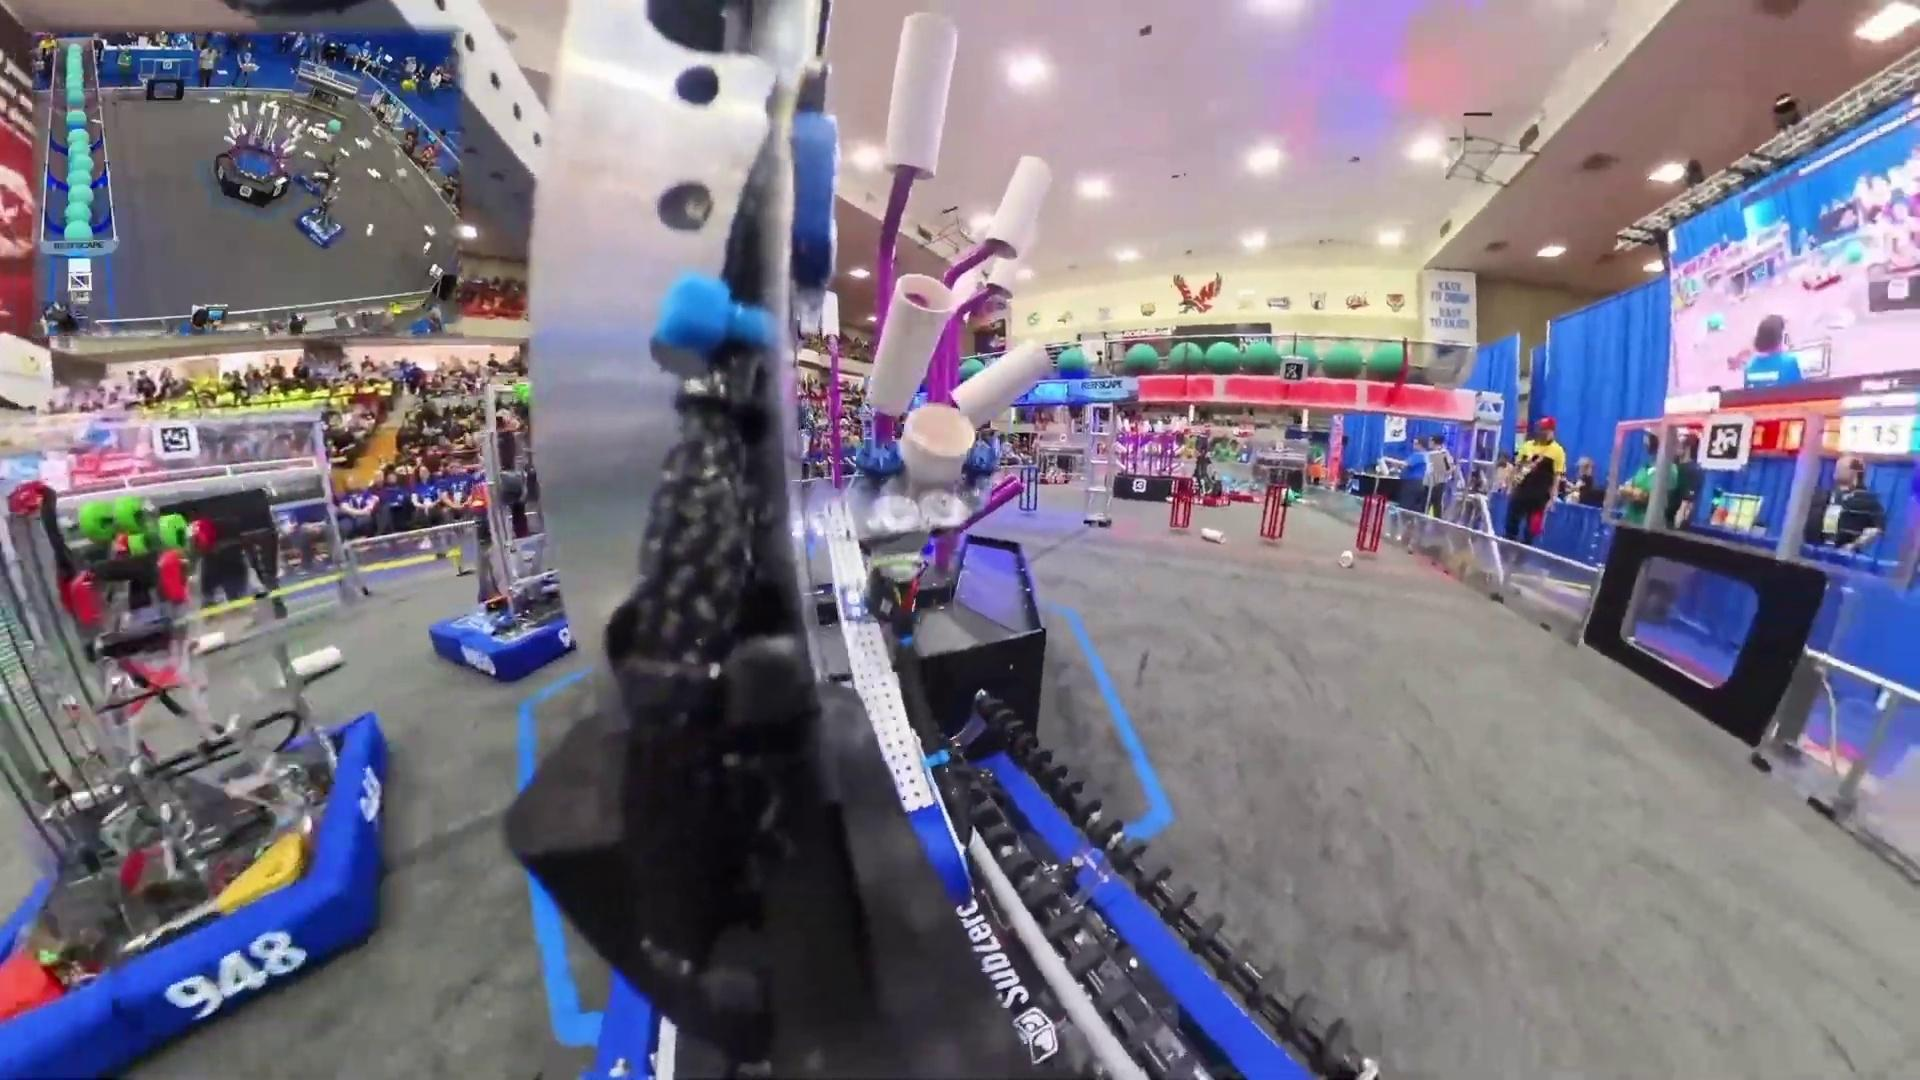robot: (0, 488, 388, 1080), (429, 385, 576, 683), (295, 173, 349, 253), (297, 146, 334, 196), (1192, 476, 1232, 513), (1035, 462, 1073, 487), (1222, 484, 1262, 506)
